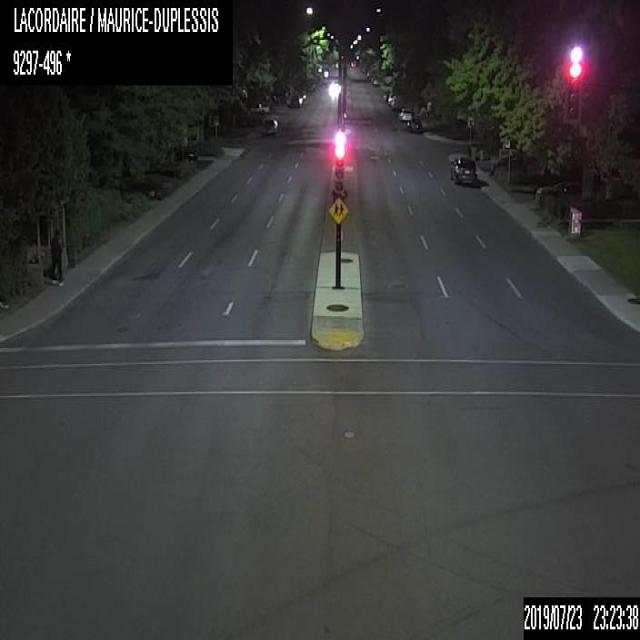pedestrian: (48, 227, 61, 281)
vehicle: (534, 179, 582, 200), (448, 153, 476, 187), (285, 87, 307, 107), (261, 116, 280, 134), (397, 105, 415, 122), (407, 114, 422, 132), (251, 102, 268, 112), (390, 95, 401, 108), (388, 91, 394, 104)
